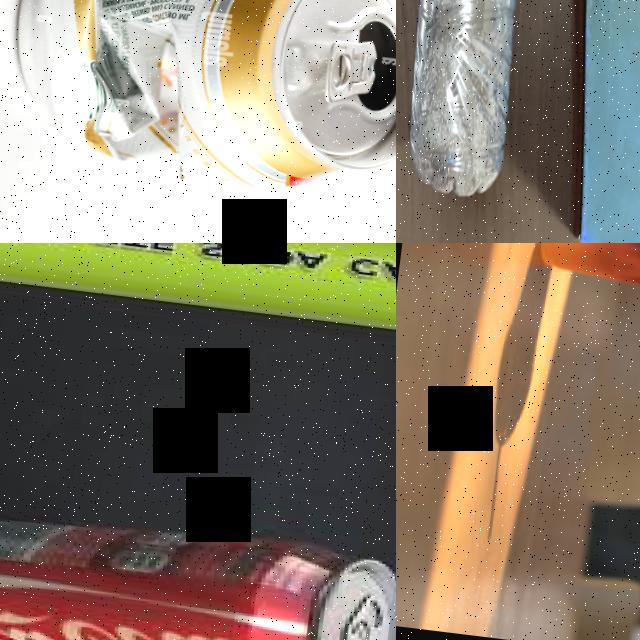bottle: (396, 0, 561, 204)
can: (0, 487, 396, 640)
cup: (526, 243, 640, 317)
